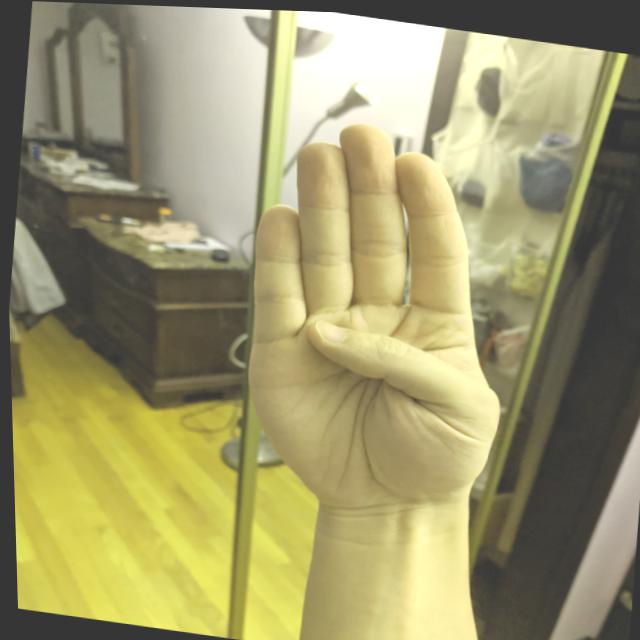B: (215, 100, 541, 534)
